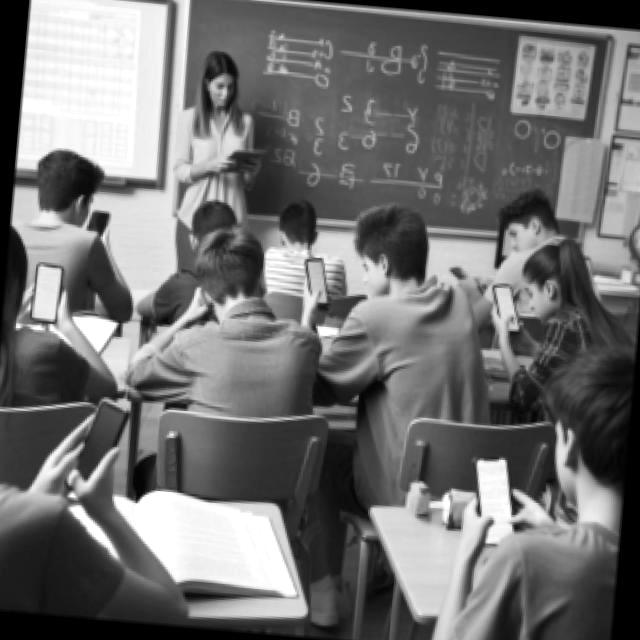phone: (66, 394, 132, 494), (466, 452, 522, 548), (31, 258, 66, 322), (490, 282, 524, 332), (302, 254, 334, 305), (448, 264, 488, 294), (85, 207, 111, 239), (451, 264, 468, 278)
